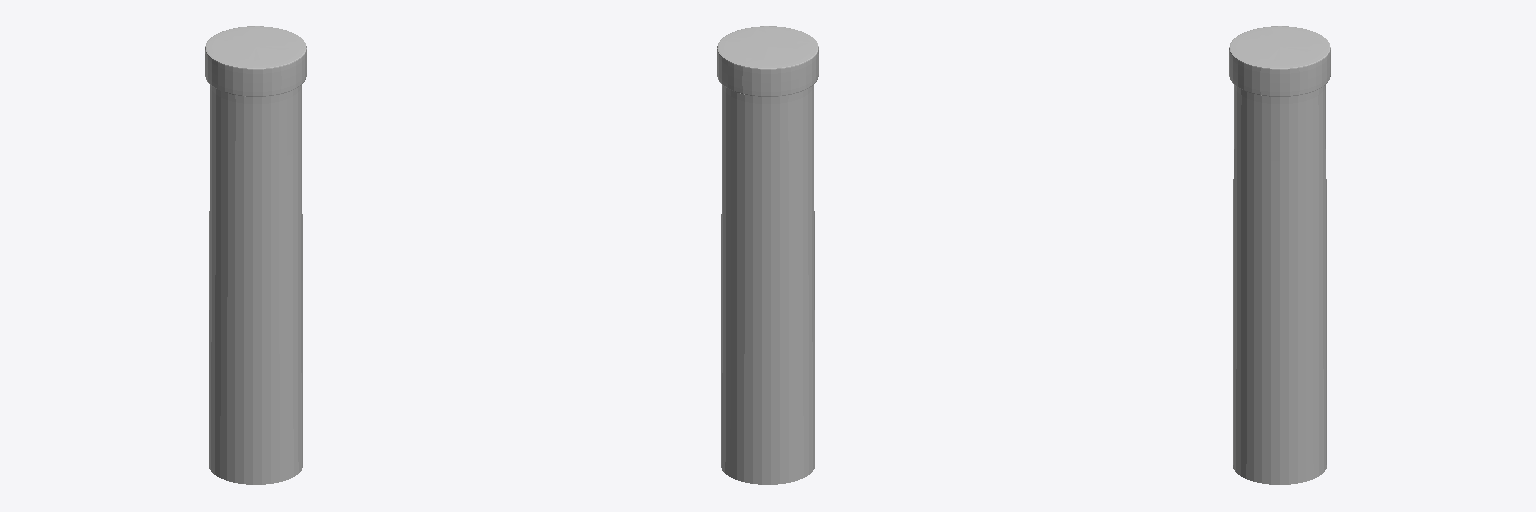
Rendered from Murs.obj.
The picture shows the model from 3 angles: view 1: azimuth 30°, elevation 25°; view 2: azimuth 150°, elevation 25°; view 3: azimuth 270°, elevation 25°; orthographic projection.
Visible parts, largest first — view 1: Pipe_Cylinder.002; view 2: Pipe_Cylinder.002; view 3: Pipe_Cylinder.002.
Boxes of the visible parts, <box> form: Pipe_Cylinder.002: <box>205,26,306,484</box>; Pipe_Cylinder.002: <box>717,26,818,484</box>; Pipe_Cylinder.002: <box>1229,26,1330,484</box>.
Size of the model in its own units: 2.29 by 10.34 by 2.29.